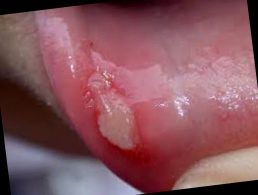Ulcer: (80, 61, 146, 153)
